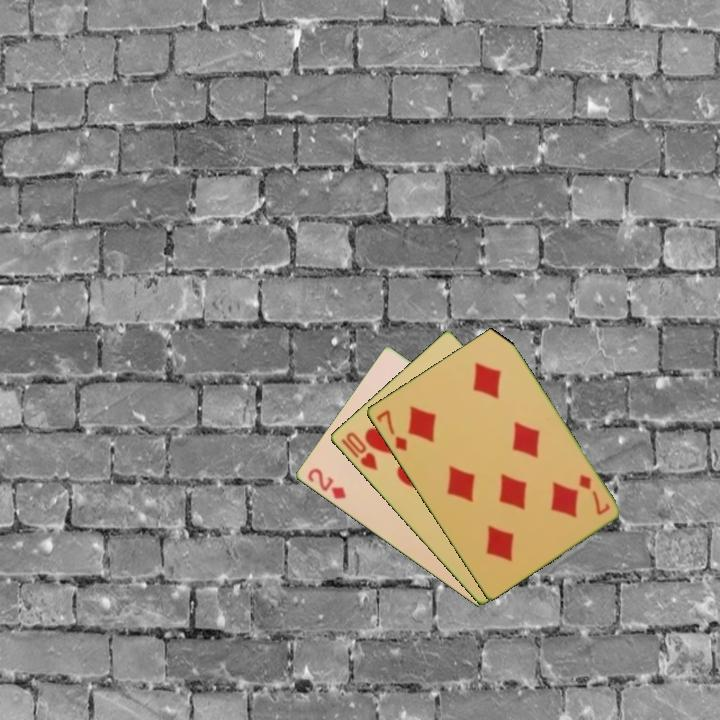10h: (337, 428, 381, 474)
2d: (304, 465, 349, 502)
7d: (372, 406, 410, 454), (575, 471, 613, 518)
